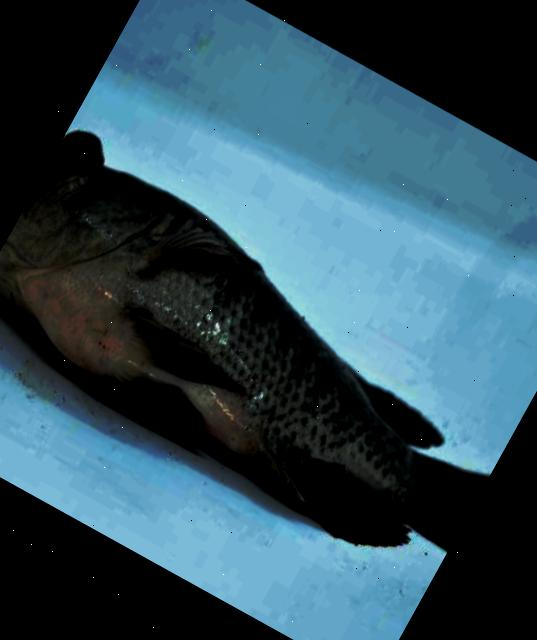Streptococcus: (0, 131, 488, 552)
